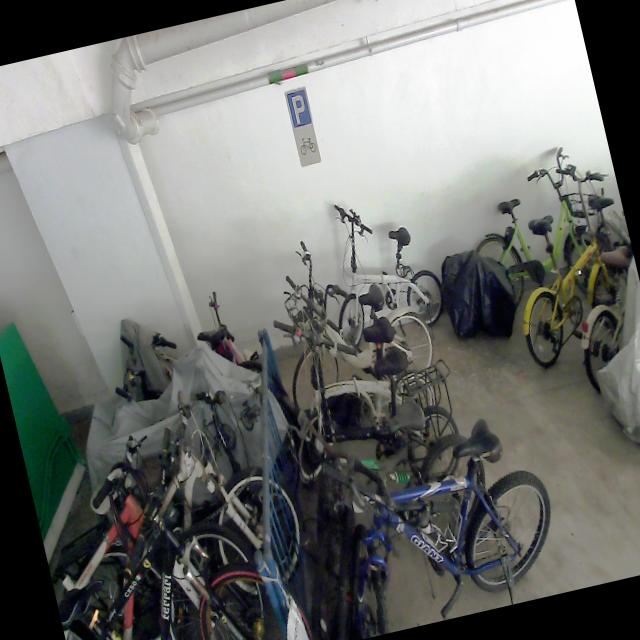bike: (47, 370, 320, 640), (288, 405, 570, 640), (24, 414, 278, 640), (277, 338, 473, 540), (264, 286, 448, 483), (258, 216, 441, 412), (455, 140, 629, 333), (489, 153, 640, 367), (312, 184, 451, 348)
